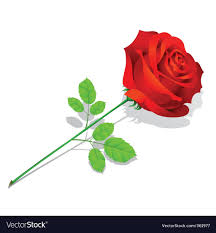lale: (107, 18, 206, 155)
